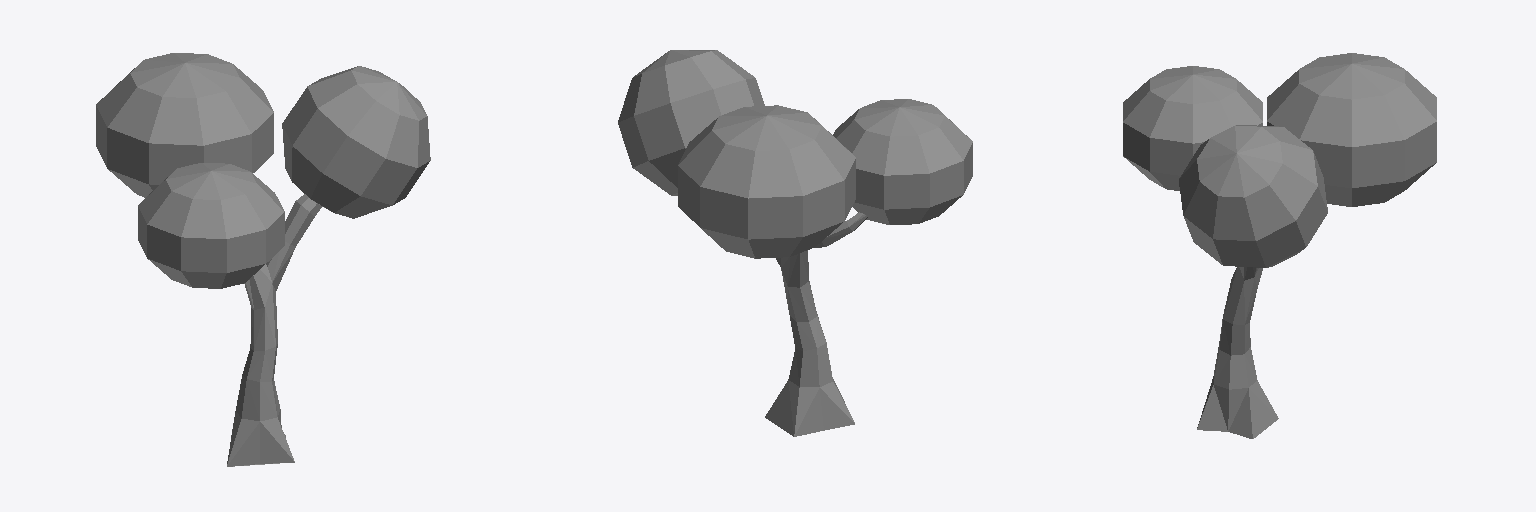
The model's file is tree.obj.
3 views of the same model, side by side, from view 1: azimuth 30°, elevation 25°; view 2: azimuth 150°, elevation 25°; view 3: azimuth 270°, elevation 25° (orthographic).
Visible parts, largest first — view 1: default; view 2: default; view 3: default.
Boxes of the visible parts, <box> form: default: <box>96,53,430,466</box>; default: <box>618,50,972,436</box>; default: <box>1123,53,1436,438</box>.
Size of the model in its own units: 21.98 by 24.18 by 19.66.